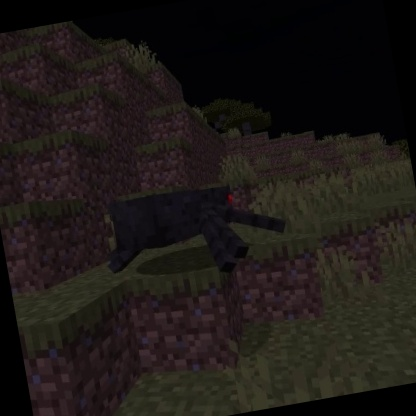spider: (92, 170, 296, 299)
